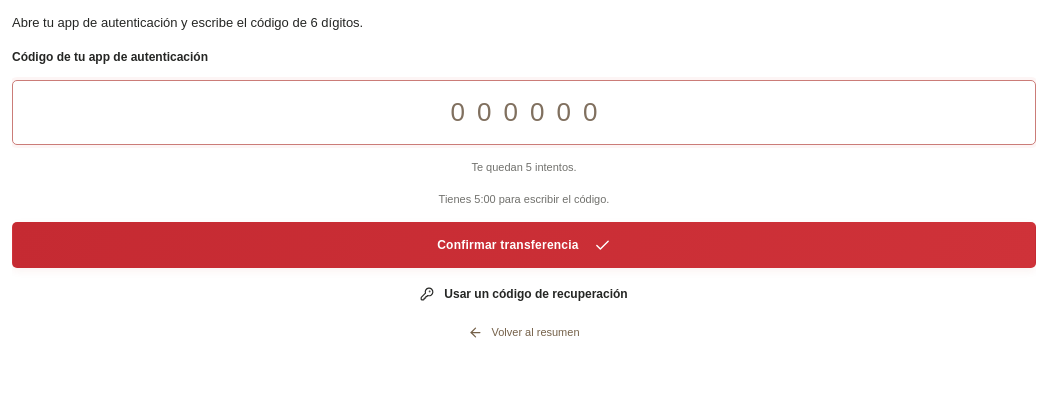
it: StepUpPanel with an authenticator app › does not send a malformed recovery code
Click the button "Usar un código de recuperación" at [524, 294], box [420,282,628,306]
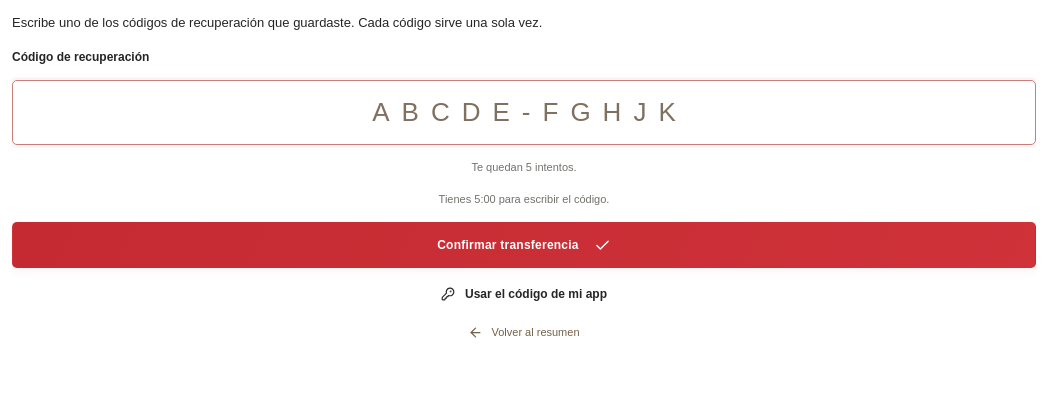
Type "abc" into the field labelled "Código de recuperación" at [524, 113], box [12,80,1036,145]
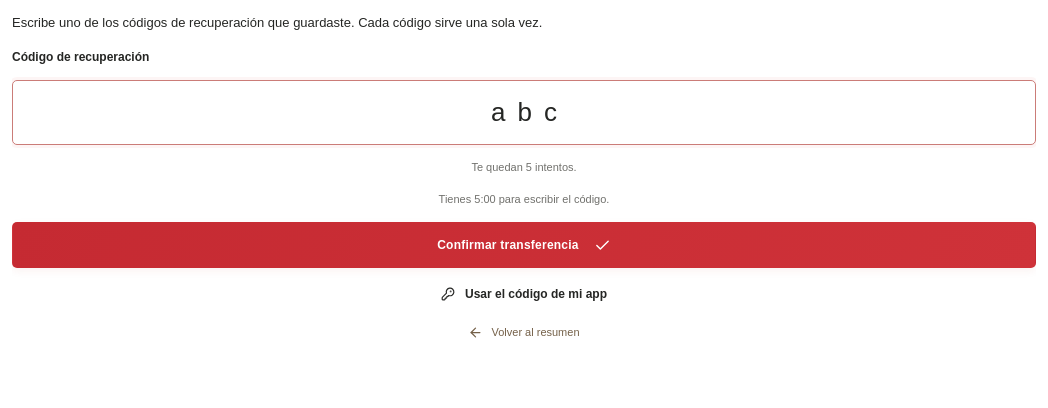
Click the button "Confirmar transferencia" at [524, 245], box [12,222,1036,268]
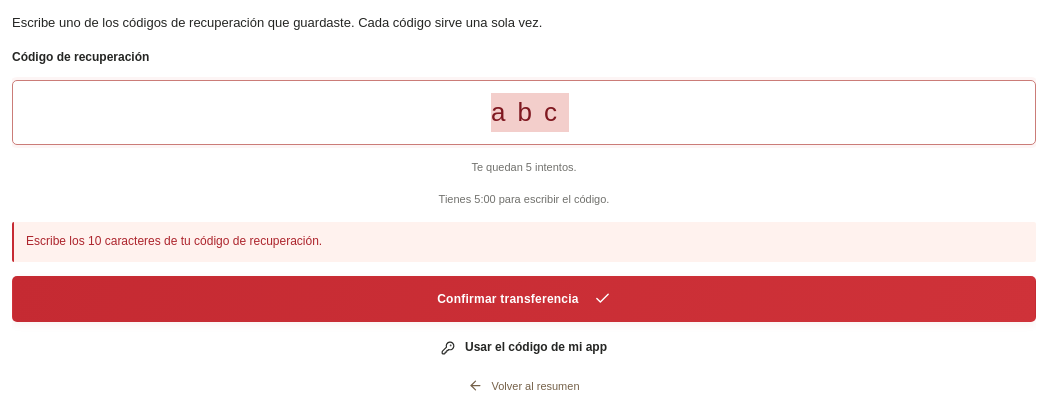
Now the message shows "Escribe los 10 caracteres", box [26,234,322,248]
